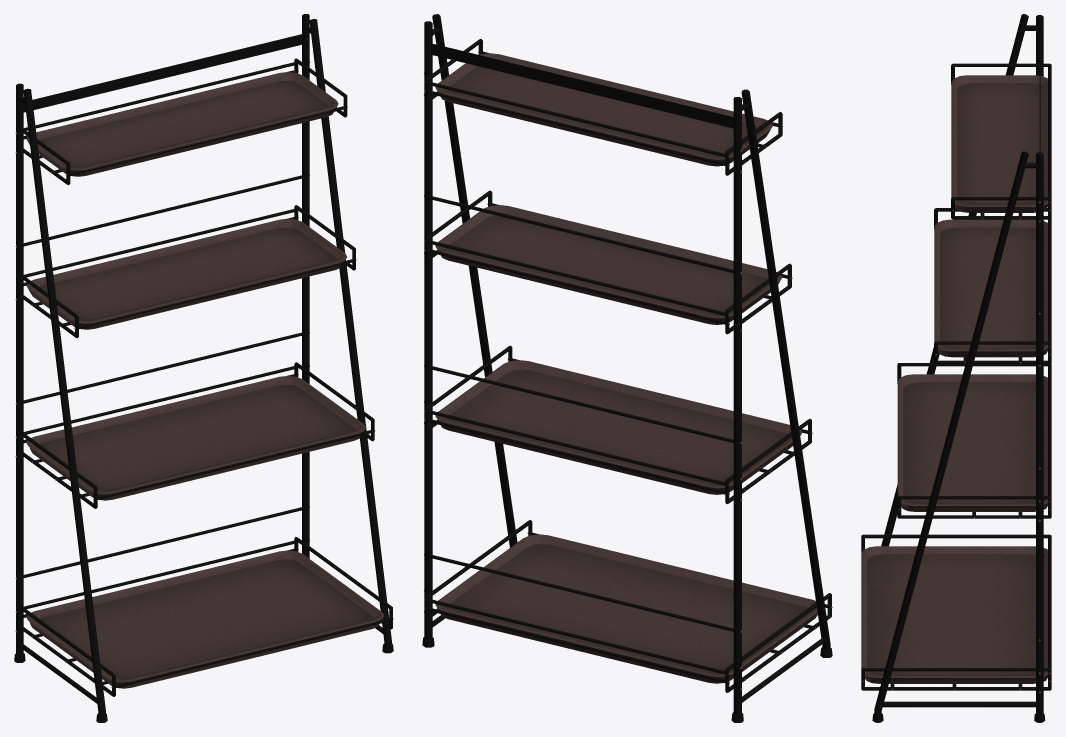
File: Furniture_flowerstand_02a_LOD1.fbx
3 renders of one model, left to right at view 1: azimuth 30°, elevation 25°; view 2: azimuth 150°, elevation 25°; view 3: azimuth 270°, elevation 25°, orthographic. The views are drawn at different scales.
Visible parts, largest first — view 1: Furniture_flowerstand_02a_LOD1; view 2: Furniture_flowerstand_02a_LOD1; view 3: Furniture_flowerstand_02a_LOD1.
Part boxes in pixels (box(x1,y1,x2,y2)): Furniture_flowerstand_02a_LOD1: box(14, 14, 393, 722); Furniture_flowerstand_02a_LOD1: box(422, 14, 832, 722); Furniture_flowerstand_02a_LOD1: box(861, 14, 1051, 722).
Size of the model in its own units: 88.66 by 165 by 50.25.
